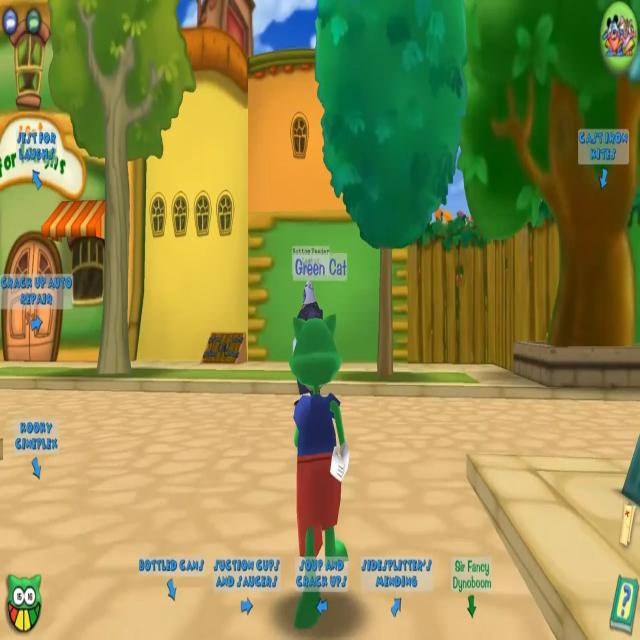bottomfeeder: (287, 242, 340, 392)
